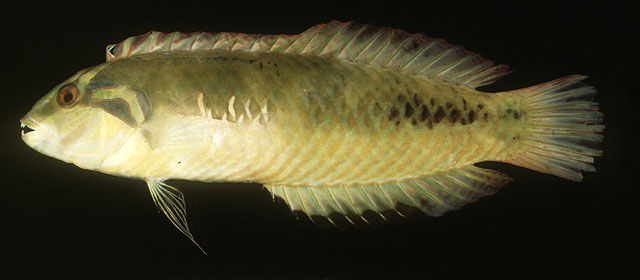fish: (20, 20, 604, 255)
